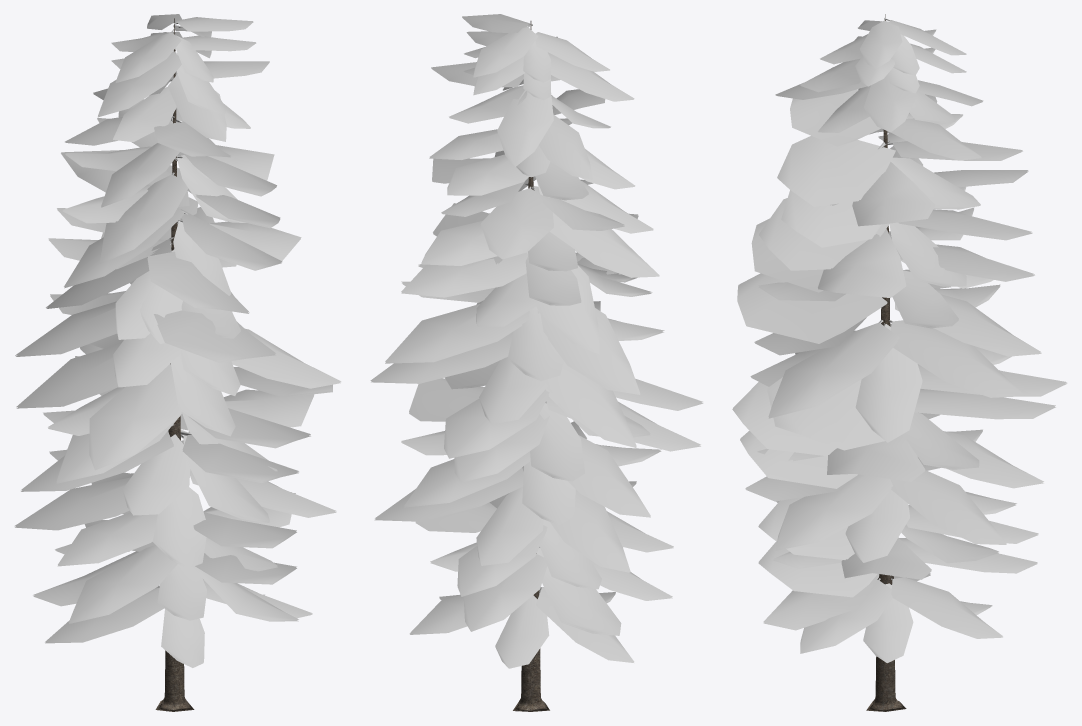
Rendered from PineTree.obj.
The picture shows the model from 3 angles, left to right: view 1: azimuth 30°, elevation 25°; view 2: azimuth 150°, elevation 25°; view 3: azimuth 270°, elevation 25°; orthographic projection.
Parts seen in each view (by area): view 1: Branch2 Tree1, Tree1 Trunk; view 2: Branch2 Tree1, Tree1 Trunk; view 3: Branch2 Tree1, Tree1 Trunk.
Boxes of the visible parts, x1,y1,x2,y2 form: Branch2 Tree1: [14, 14, 341, 667]; Tree1 Trunk: [155, 18, 194, 711]; Branch2 Tree1: [370, 14, 703, 668]; Tree1 Trunk: [513, 21, 549, 711]; Branch2 Tree1: [732, 18, 1067, 663]; Tree1 Trunk: [866, 14, 906, 711].
Bounding box in the file's own units: 157 × 379 × 166.
